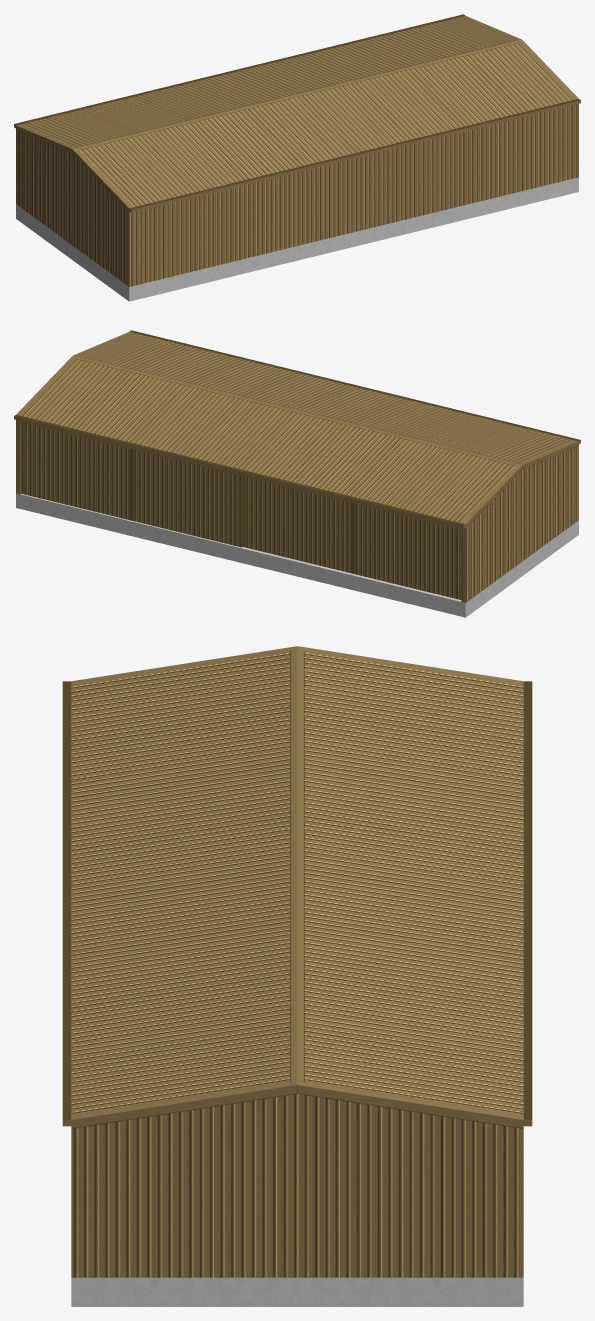
The model's file is hangar-side-door-26x11x4-mustard-cbj_LOD00.gltf.
3 views of the same model, one above another, from view 1: azimuth 30°, elevation 25°; view 2: azimuth 150°, elevation 25°; view 3: azimuth 270°, elevation 25° (orthographic). The views are drawn at different scales.
Parts seen in each view (by area): view 1: hangar-side-d00; view 2: hangar-side-d00; view 3: hangar-side-d00.
Boxes of the visible parts, x1,y1,x2,y2 form: hangar-side-d00: [14, 14, 580, 301]; hangar-side-d00: [14, 330, 580, 617]; hangar-side-d00: [62, 646, 532, 1306].
Bounding box in the file's own units: 25.7 × 6.06 × 11.62.
